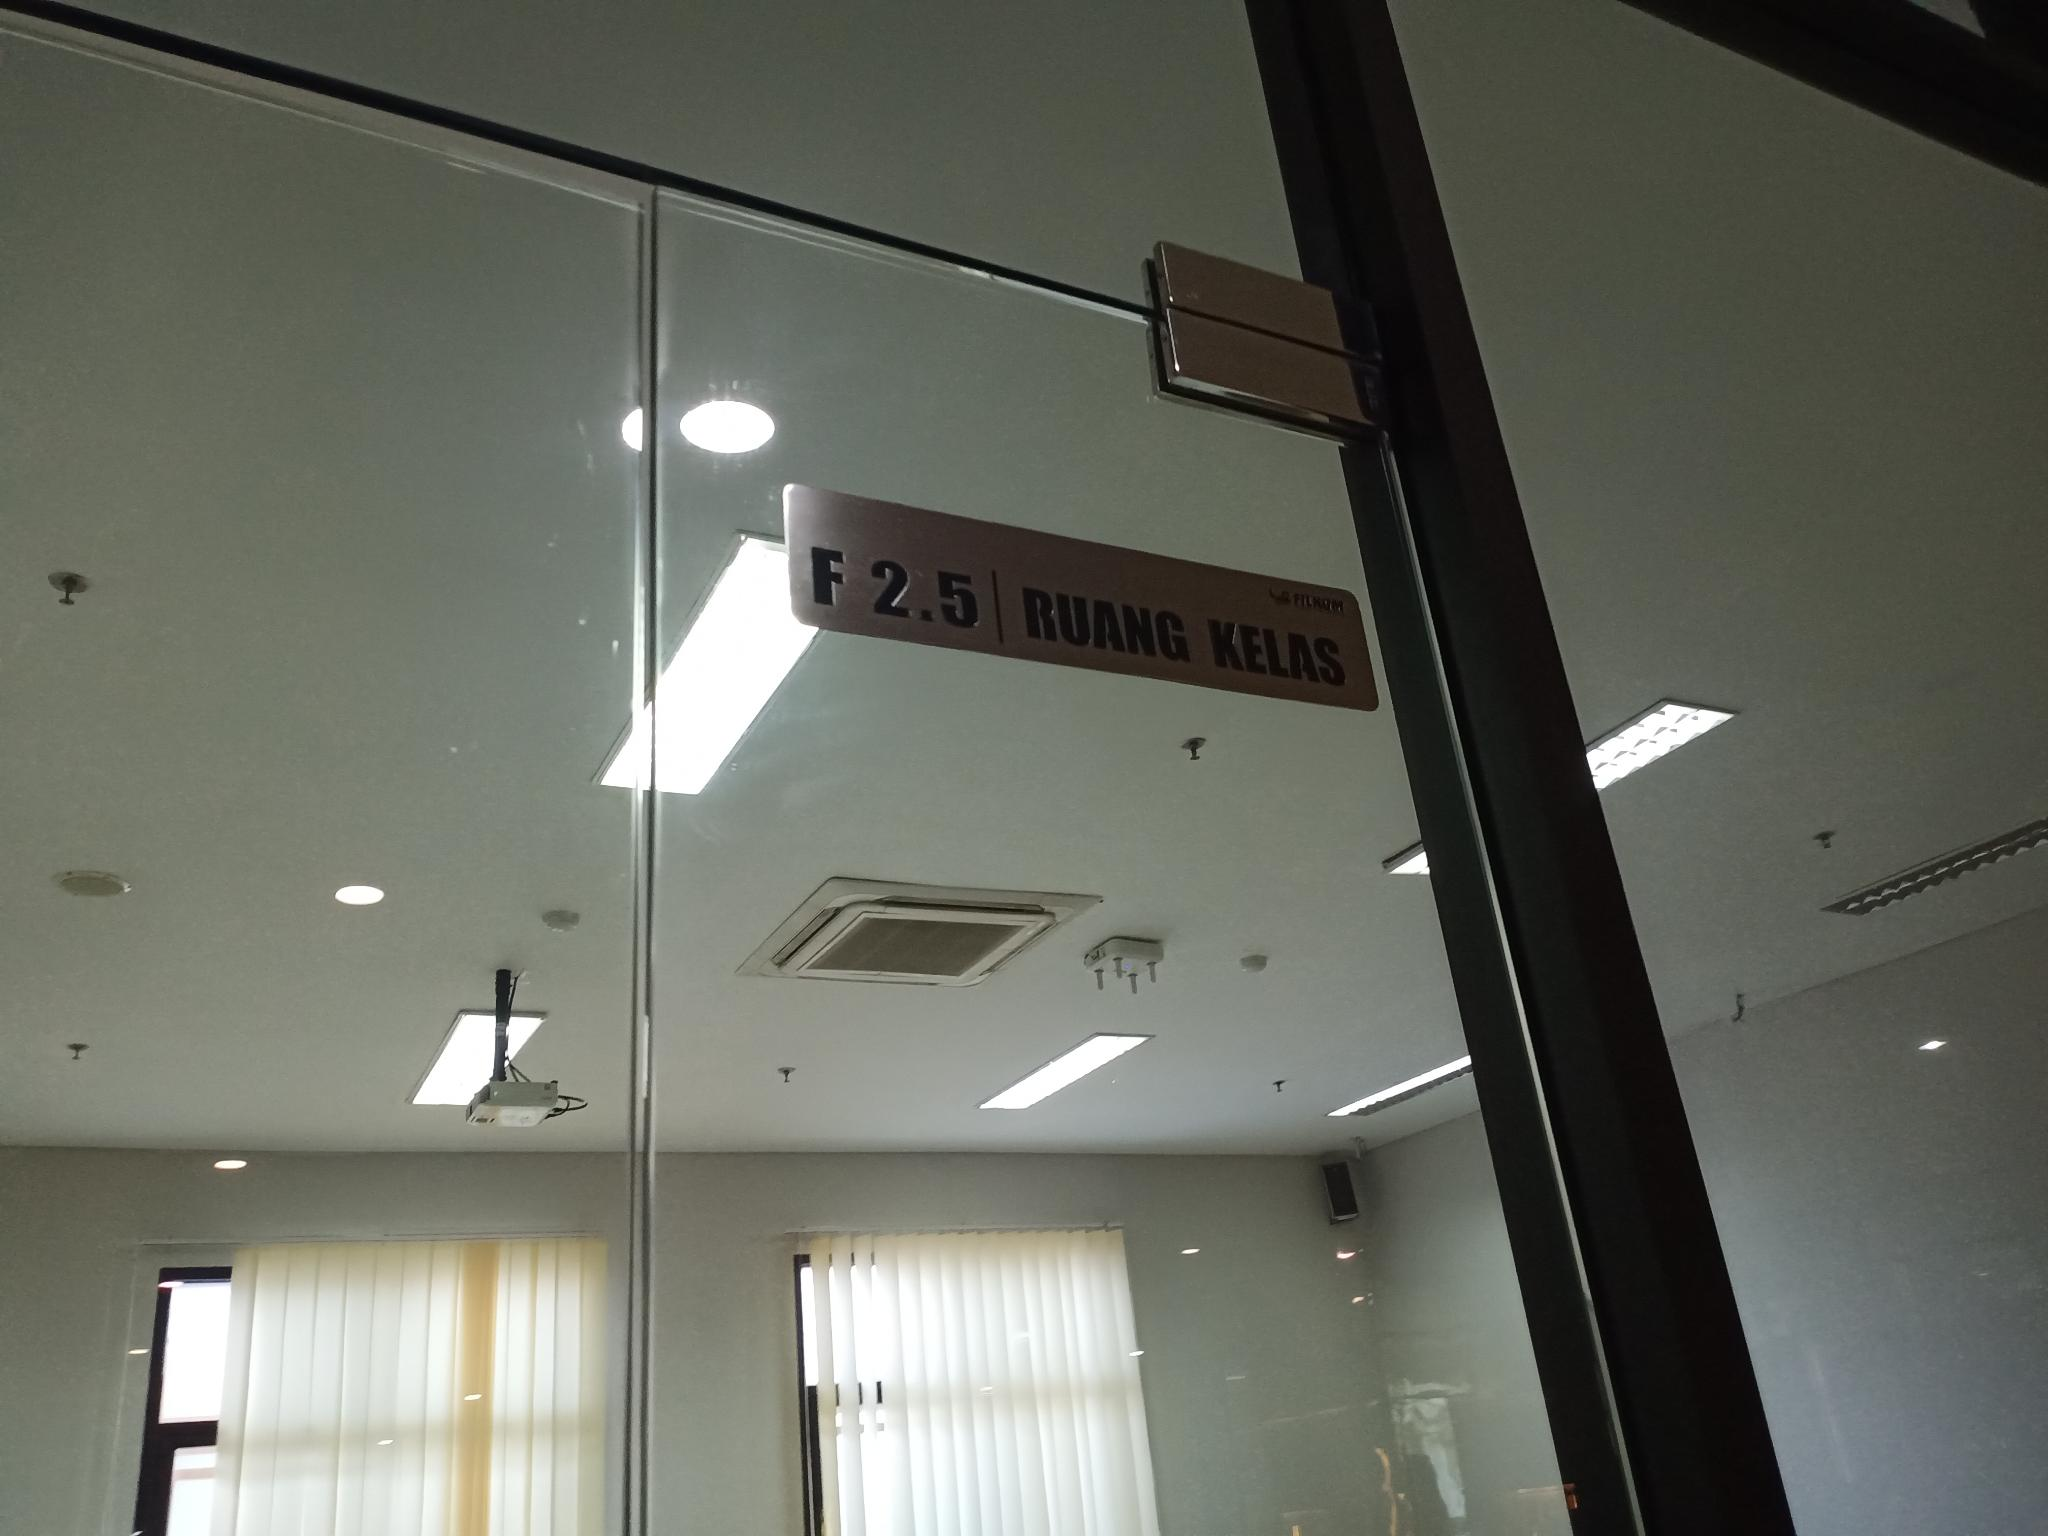plate: (780, 481, 1384, 713)
